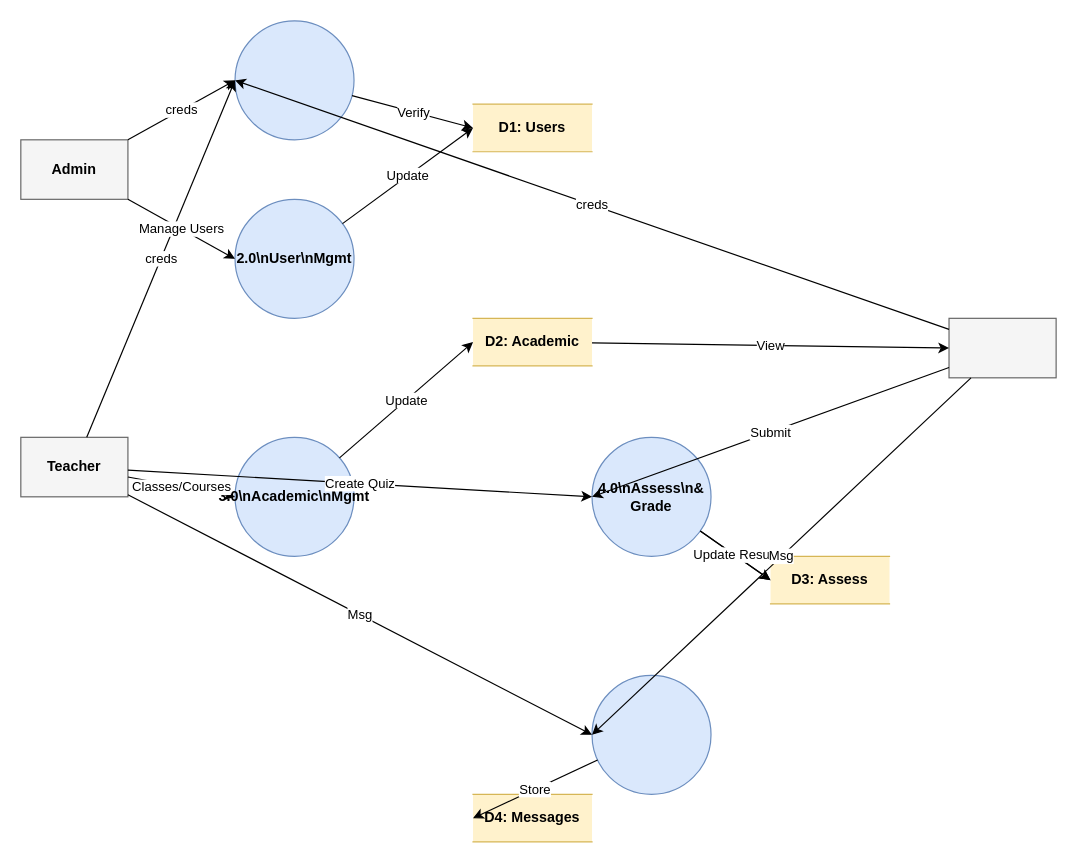
The diagram is 1077 pixels wide and 863 high, and some of its shapes have lost their labels. Here are the shapes that lost their labels. From the top down, the centre of each, then its label:
(294,80): 1.0\nAuth
(1002,347): Student
(651,734): 5.0\nChat
